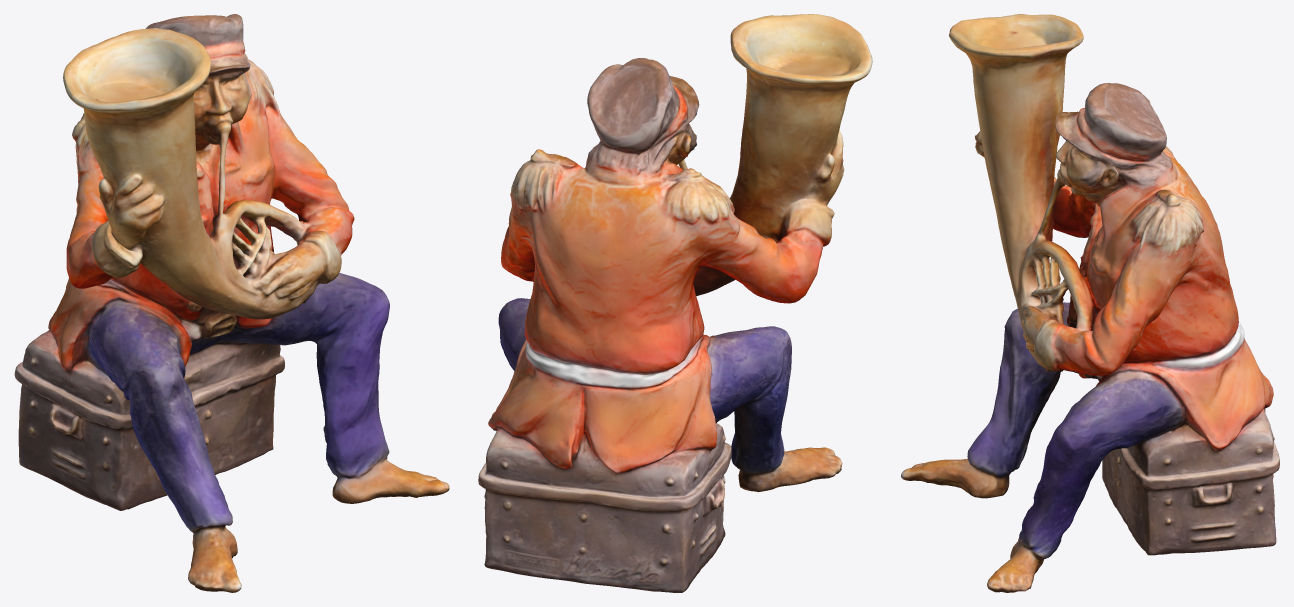
The model's file is khanna-shyam-pratap-bhompu-walae.glb.
The picture shows the model from 3 angles, left to right: view 1: azimuth 30°, elevation 25°; view 2: azimuth 150°, elevation 25°; view 3: azimuth 270°, elevation 25°; orthographic projection. The views are drawn at different scales.
Parts seen in each view (by area): view 1: Mesh_003; view 2: Mesh_003; view 3: Mesh_003.
Boxes of the visible parts, x1,y1,x2,y2 form: Mesh_003: (14, 14, 449, 592); Mesh_003: (478, 14, 872, 592); Mesh_003: (901, 14, 1279, 592).
Size of the model in its own units: 0.2298 by 0.3 by 0.2329.
1 material, 1 textured.
